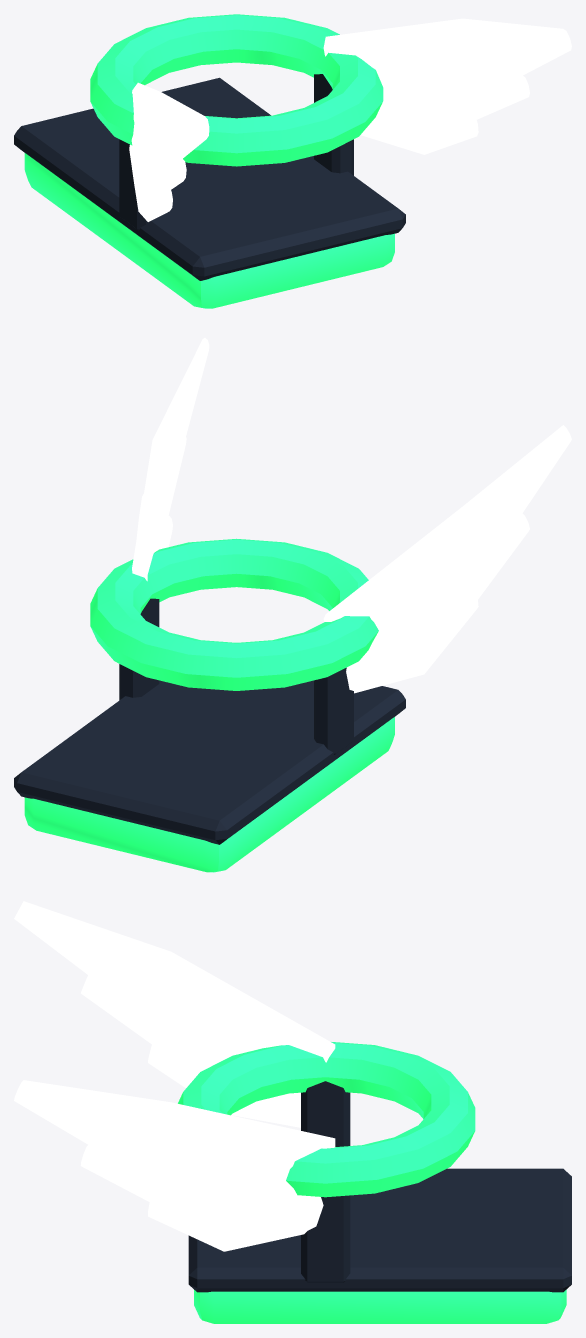
Rendered from alas_zapatilla.glb.
The picture shows the model from 3 angles, top to bottom: view 1: azimuth 30°, elevation 25°; view 2: azimuth 150°, elevation 25°; view 3: azimuth 270°, elevation 25°; orthographic projection. The views are drawn at different scales.
Parts seen in each view (by area): view 1: Alas_Zapatilla; view 2: Alas_Zapatilla; view 3: Alas_Zapatilla.
Part boxes in pixels (x1,y1,x2,y2): Alas_Zapatilla: (14,14,571,308); Alas_Zapatilla: (14,338,571,872); Alas_Zapatilla: (14,901,571,1323).
Bounding box in the file's own units: 0.3973 × 0.2922 × 0.5094.
